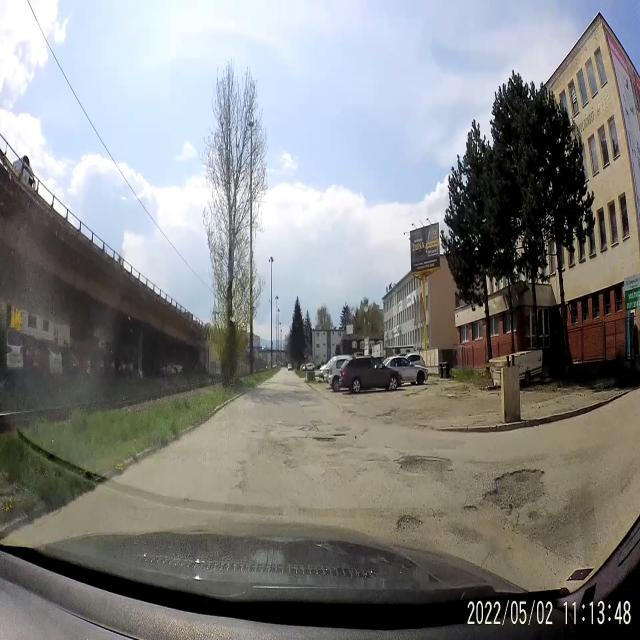Pothole: (480, 458, 550, 520), (394, 446, 454, 484), (396, 505, 422, 536), (312, 427, 347, 449), (321, 466, 344, 492), (462, 496, 478, 516), (236, 478, 251, 494), (297, 424, 320, 434), (309, 419, 322, 424)
